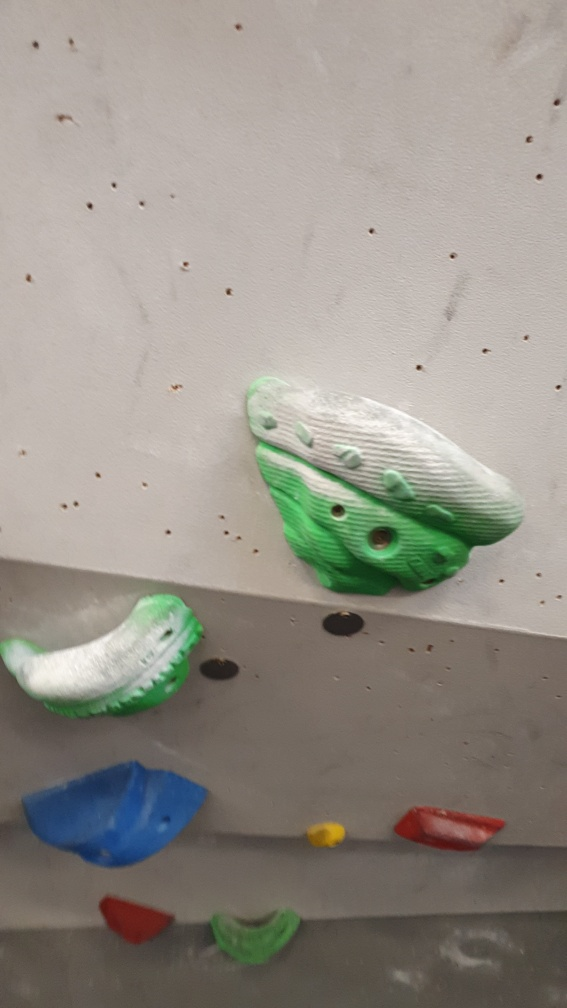Crimp: (394, 795, 511, 860)
Hand Start: (197, 648, 246, 691), (317, 602, 370, 639)
Jug: (240, 363, 529, 605), (1, 593, 211, 727), (206, 899, 310, 965)
Pinch: (18, 757, 216, 872)
